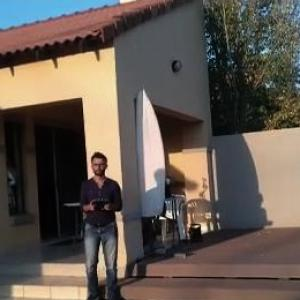follow: (76, 146, 133, 299)
